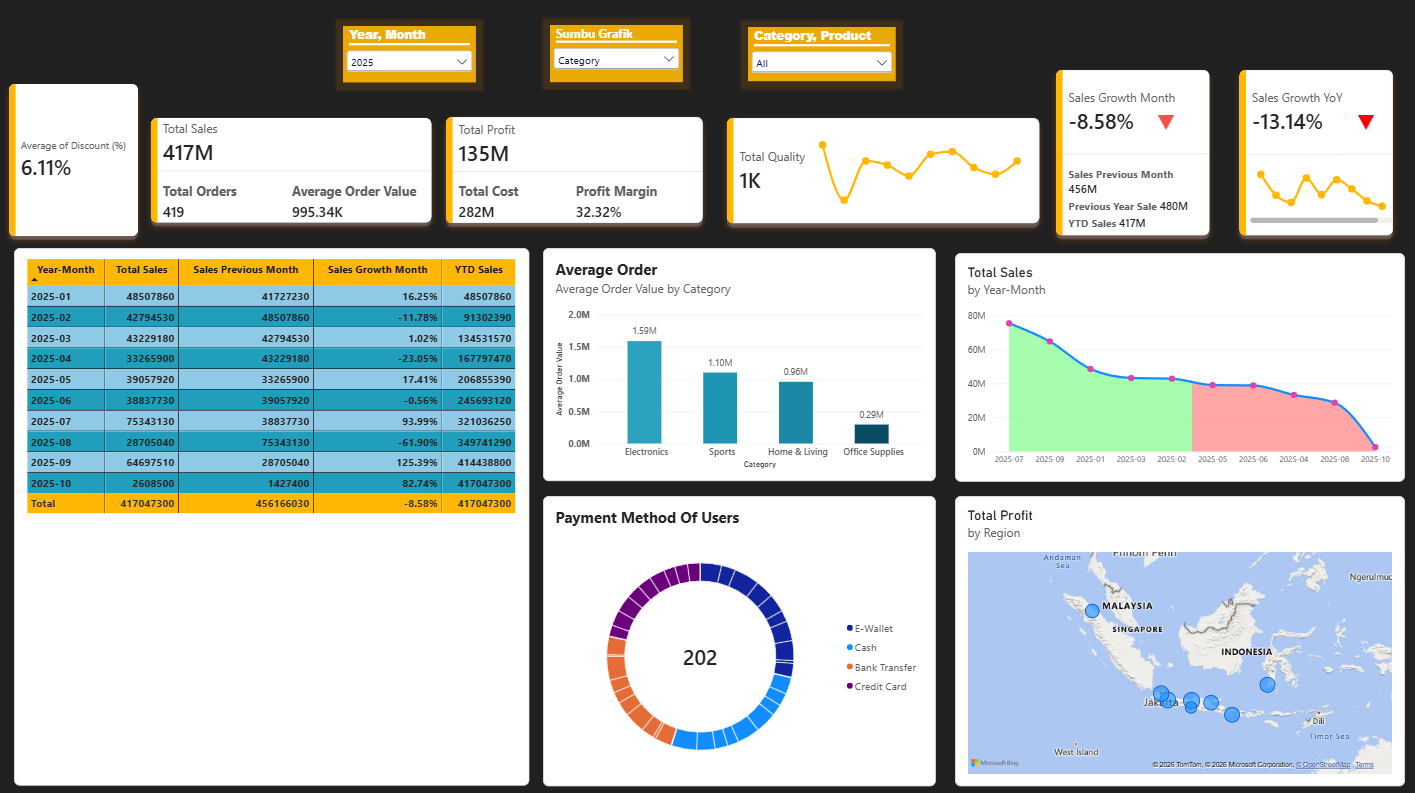

Layout of this report page (visuals, bound fields, positions):
{"tool":"powerbi","page":{"name":"Duplicate of Duplicate of Dashboard","canvas":[1920,1080],"ordinal":3},"visuals":[{"type":"cardVisual","fields":{"Data":["Sales_Data.Total Sales"]},"box":[191.2,145.4,410.7,173.7],"z":0},{"type":"cardVisual","fields":{"Data":["Sales_Data.Total Profit"]},"box":[588.6,143.9,378.4,175.1],"z":1000},{"type":"cardVisual","fields":{"Data":["Sales_Data.Sales Growth Month","Sales_Data.Sales Growth YoY"]},"box":[1409.4,81.1,486.1,255.9],"z":2000},{"type":"lineChart","fields":{"Category":["Calendar.Year-Month"],"Y":["Sales_Data.Total Sales"]},"box":[1290,342.9,606,308.4],"z":4000},{"type":"tableEx","fields":{"Values":["Calendar.Year-Month","Sales_Data.Total Sales","Sales_Data.Sales Previous Month","Sales_Data.Sales Growth Month","Sales_Data.YTD Sales"]},"box":[22.9,337.1,694.3,724.3],"z":5000},{"type":"cardVisual","fields":{"Data":["Sales_Data.Total Quality"]},"box":[967.3,145.5,453.6,174.5],"z":6000},{"type":"clusteredColumnChart","title":"Average Order","fields":{"Category":["Sales_Data.Category","Sales_Data.Payment Method","Sales_Data.Product"],"Y":["Sales_Data.Average Order Value"]},"box":[735.7,337.1,528.6,314.3],"z":7000},{"type":"map","fields":{"Category":["Sales_Data.Region"],"Size":["Sales_Data.Total Profit"]},"box":[1290,670,605.7,391.4],"z":8000},{"type":"donutChart","title":"Payment Method  Of Users","fields":{"Category":["Sales_Data.Payment Method"],"Series":["Calendar.Month"],"Y":["Count(Sales_Data.Customer ID)"]},"box":[735.7,670,528.6,391.4],"z":9000},{"type":"cardVisual","fields":{"Data":["Sales_Data.Indikator Clicks"]},"box":[1545.7,151.4,62.9,30],"z":10000},{"type":"cardVisual","fields":{"Data":["Sales_Data.YoY Indikator Clicks"]},"box":[1815.7,145.7,58.6,41.4],"z":11000},{"type":"slicer","fields":{"Values":["Calendar.Year","Calendar.Month"]},"box":[465.7,37.1,178.6,75.7],"z":12000},{"type":"slicer","fields":{"Values":["Sumbu Grafik.Sumbu Grafik"]},"box":[745,36,178.7,77.3],"z":13000},{"type":"slicer","fields":{"Values":["Sales_Data.Category","Sales_Data.Product"]},"box":[1011.4,38.6,198.6,72.9],"z":14000},{"type":"lineChart","fields":{"Category":["Calendar.Month"],"Y":["Sales_Data.Total Quality"]},"box":[1084.5,170,317.3,124.5],"z":15501},{"type":"cardVisual","fields":{"Data":["Avg(Sales_Data.Discount (%))"]},"box":[0,99.7,206,237],"z":15503},{"type":"lineChart","fields":{"Category":["Calendar.Month"],"Y":["Sales_Data.Sales Growth YoY"]},"box":[1671.2,195.3,224.9,123.9],"z":15504}]}

Visuals, with their boxes in screenshot pixels (x1, y1, x2, y2), scaled from the page's 1920x1080 canvas onto the 1415x793 screenshot:
cardVisual - Sales_Data.Total Sales: (x1=141, y1=107, x2=444, y2=234)
cardVisual - Sales_Data.Total Profit: (x1=434, y1=106, x2=713, y2=234)
cardVisual - Sales_Data.Sales Growth Month x Sales_Data.Sales Growth YoY: (x1=1039, y1=60, x2=1397, y2=247)
lineChart - Calendar.Year-Month x Sales_Data.Total Sales: (x1=951, y1=252, x2=1397, y2=478)
tableEx - Calendar.Year-Month x Sales_Data.Total Sales: (x1=17, y1=248, x2=529, y2=779)
cardVisual - Sales_Data.Total Quality: (x1=713, y1=107, x2=1047, y2=235)
"Average Order" clusteredColumnChart: (x1=542, y1=248, x2=932, y2=478)
map - Sales_Data.Region x Sales_Data.Total Profit: (x1=951, y1=492, x2=1397, y2=779)
"Payment Method  Of Users" donutChart: (x1=542, y1=492, x2=932, y2=779)
cardVisual - Sales_Data.Indikator Clicks: (x1=1139, y1=111, x2=1186, y2=133)
cardVisual - Sales_Data.YoY Indikator Clicks: (x1=1338, y1=107, x2=1381, y2=137)
slicer - Calendar.Year x Calendar.Month: (x1=343, y1=27, x2=475, y2=83)
slicer - Sumbu Grafik.Sumbu Grafik: (x1=549, y1=26, x2=681, y2=83)
slicer - Sales_Data.Category x Sales_Data.Product: (x1=745, y1=28, x2=892, y2=82)
lineChart - Calendar.Month x Sales_Data.Total Quality: (x1=799, y1=125, x2=1033, y2=216)
cardVisual - Avg(Sales_Data.Discount (%)): (x1=0, y1=73, x2=152, y2=247)
lineChart - Calendar.Month x Sales_Data.Sales Growth YoY: (x1=1232, y1=143, x2=1397, y2=234)
